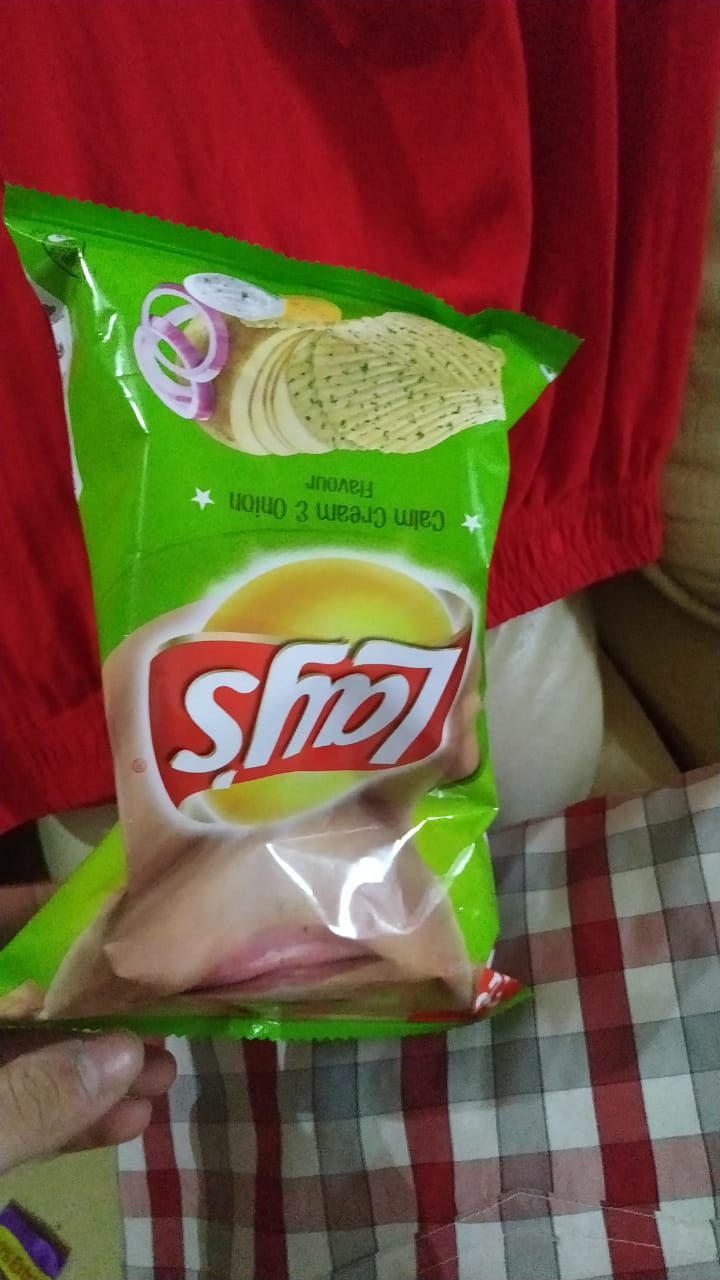lays chips: (1, 167, 590, 1039)
